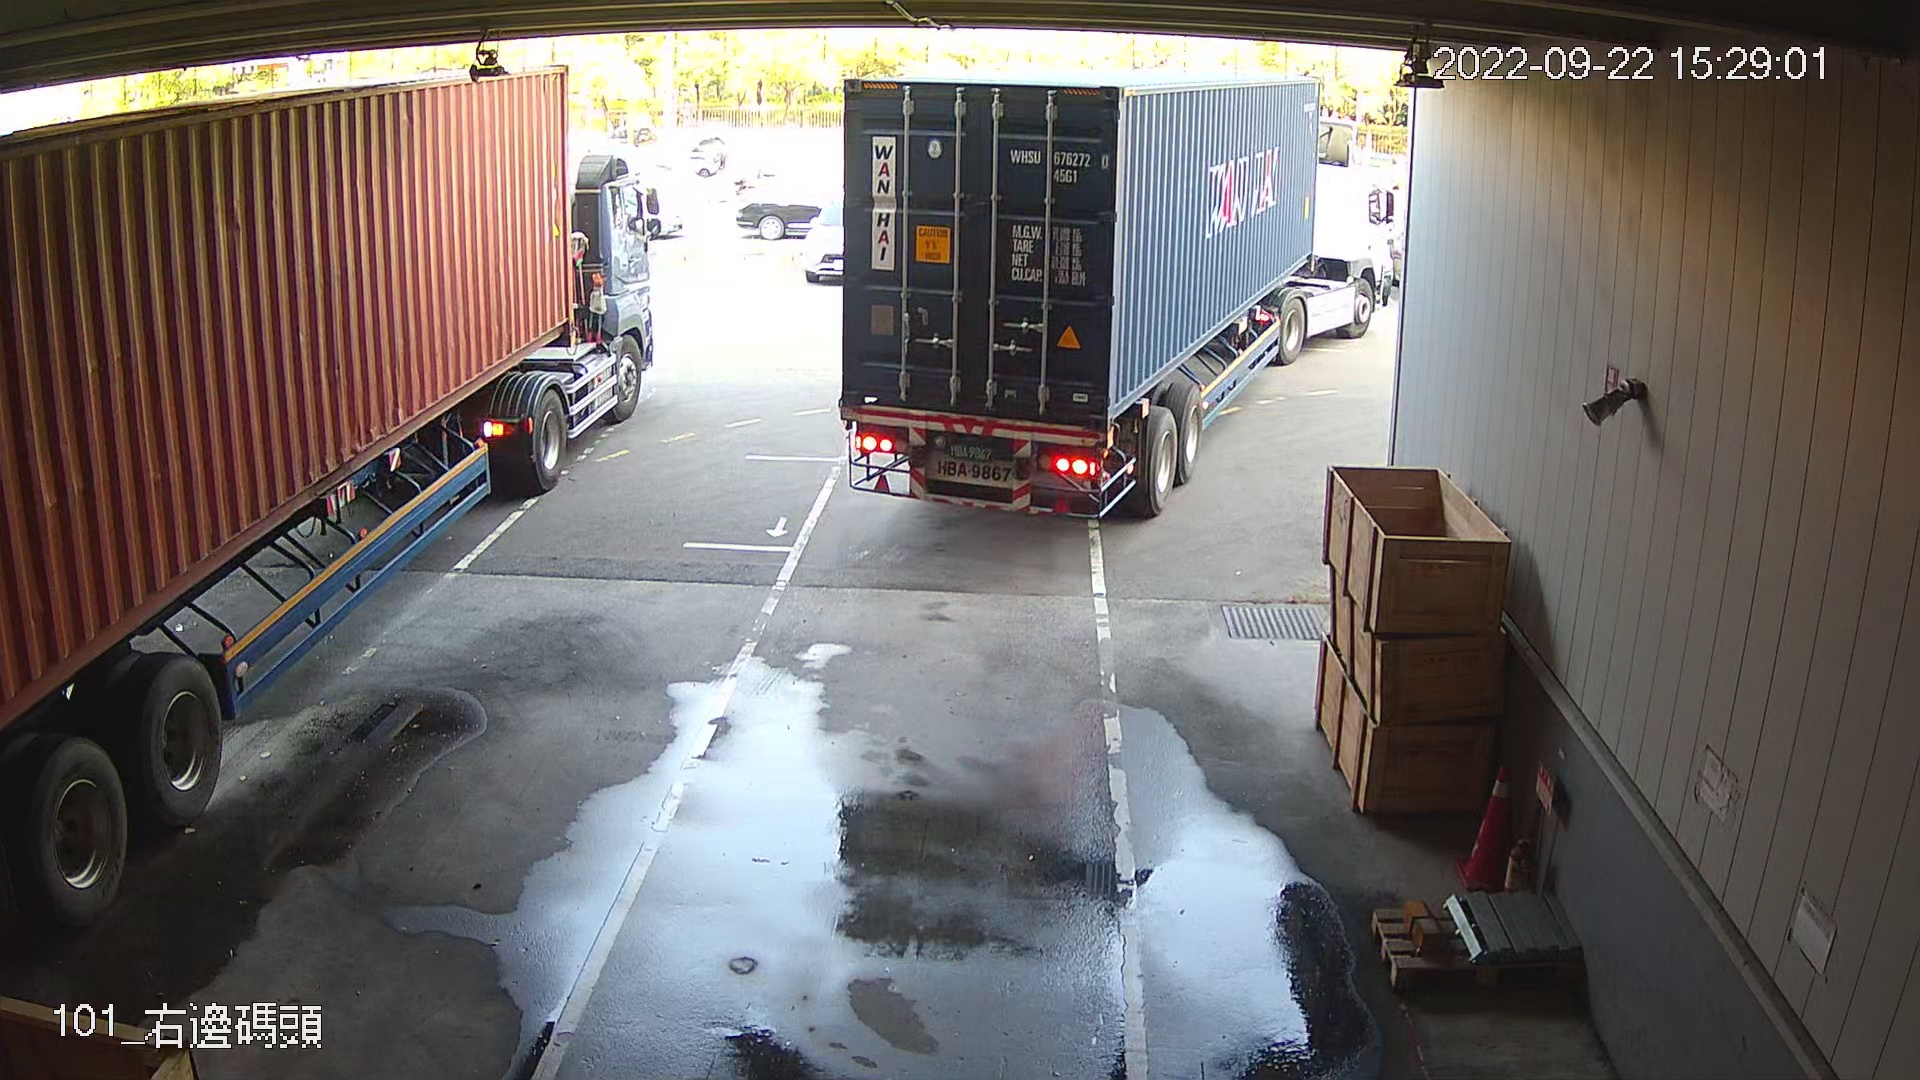container: (1001, 141, 1113, 191)
